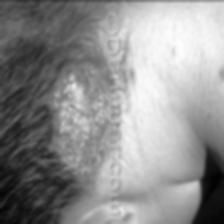Toxin: (50, 45, 110, 177)
